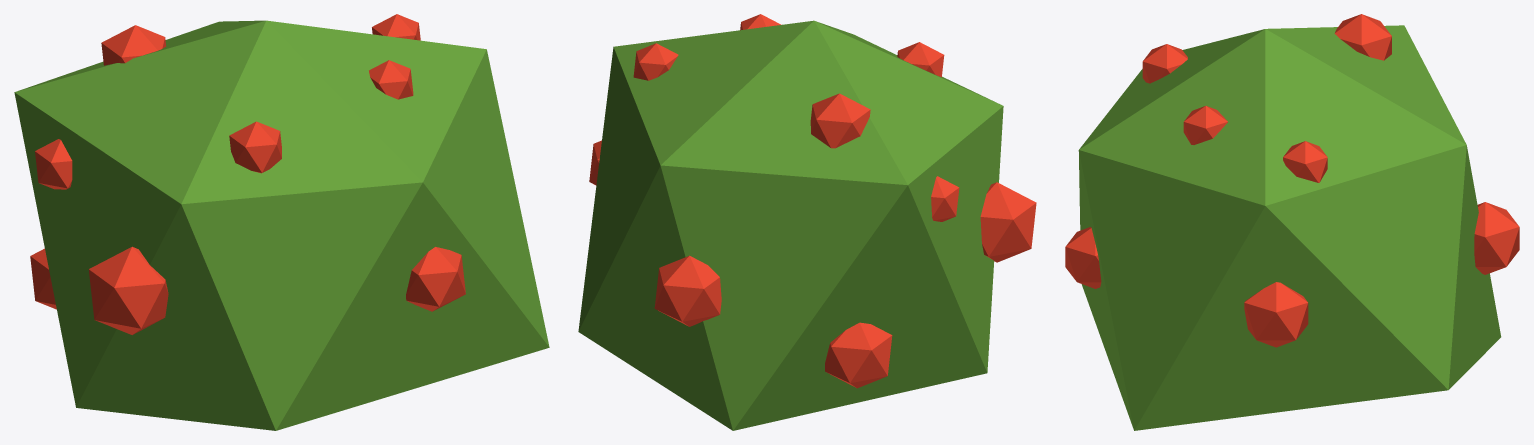
Rendered from Bush_01.fbx.
3 views of the same model, side by side, from view 1: azimuth 30°, elevation 25°; view 2: azimuth 150°, elevation 25°; view 3: azimuth 270°, elevation 25° (orthographic). The views are drawn at different scales.
Visible parts, largest first — view 1: Bush_01; view 2: Bush_01; view 3: Bush_01.
Part boxes in pixels (x1,y1,x2,y2): Bush_01: (14, 14, 549, 430); Bush_01: (578, 14, 1036, 430); Bush_01: (1065, 14, 1519, 430).
Bounding box in the file's own units: 202 × 167 × 193.
